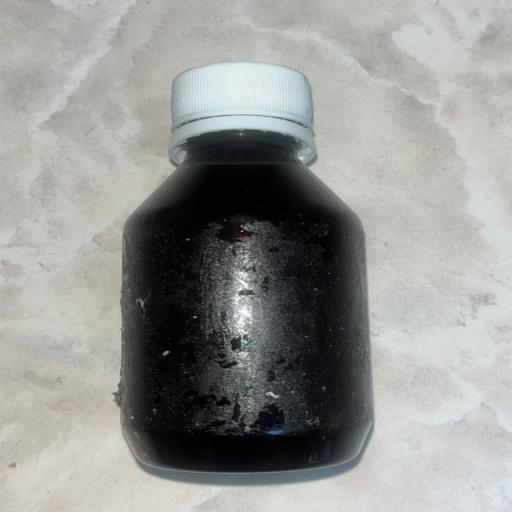HDPE: (102, 49, 422, 512)
